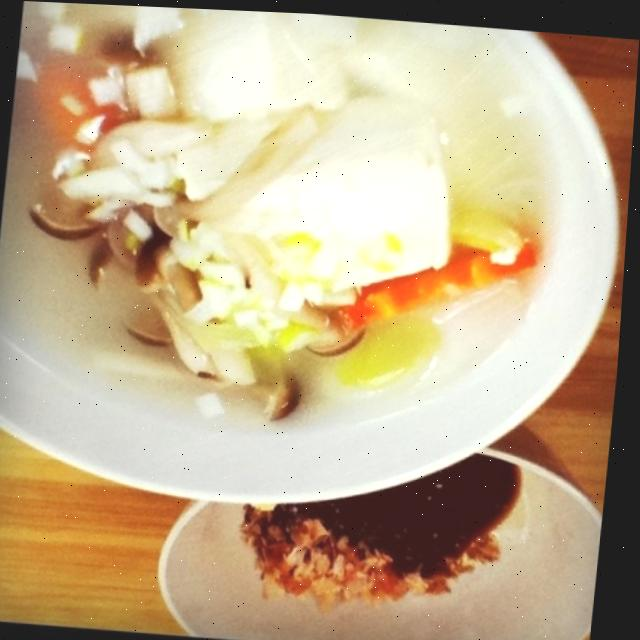豆腐料理: (1, 1, 601, 483)
